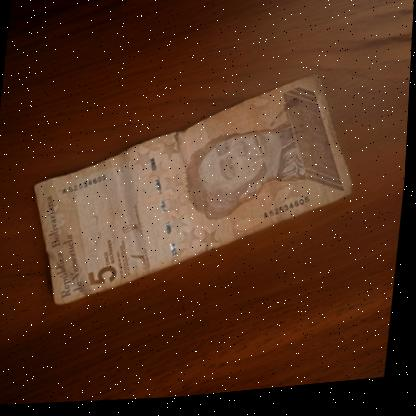vef_front: (22, 61, 366, 323)
